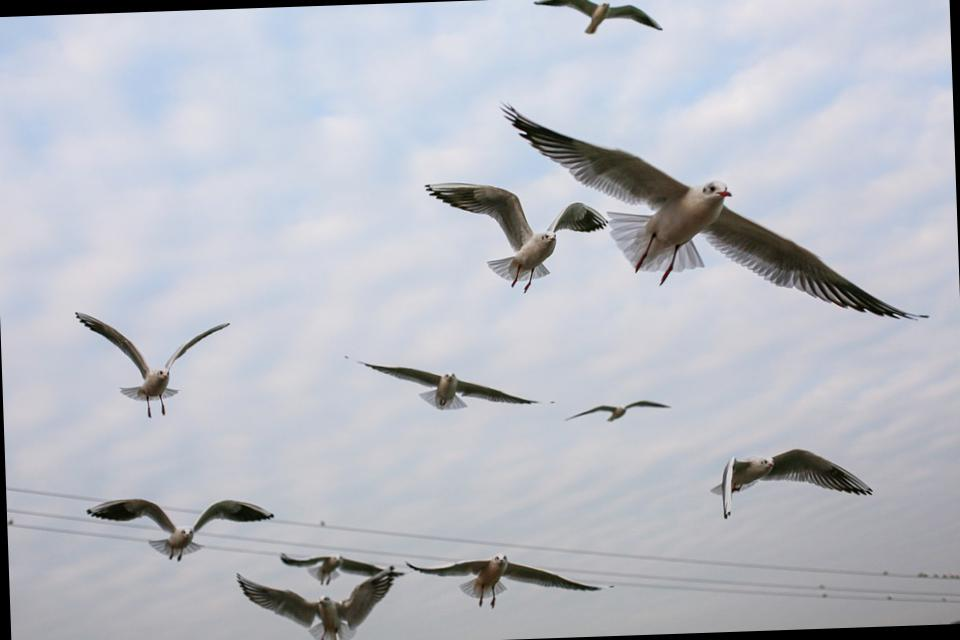bird: (44, 286, 244, 433), (322, 334, 553, 446), (558, 388, 678, 442)
